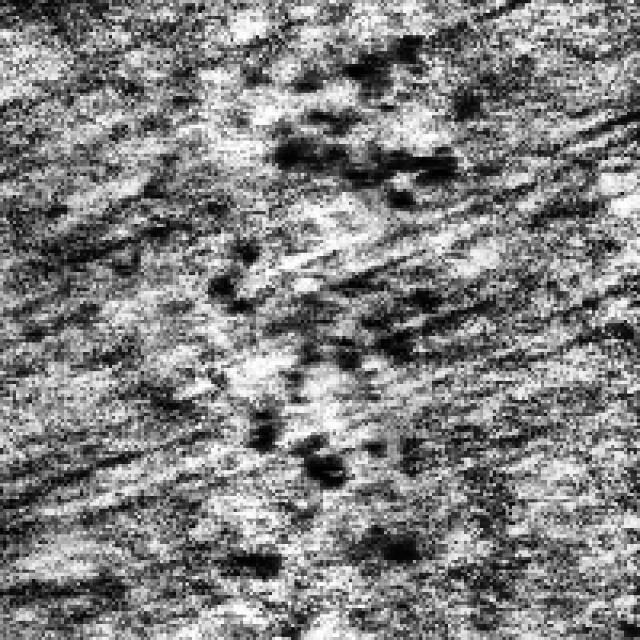Crazing: (249, 272, 452, 493), (266, 28, 458, 215)
